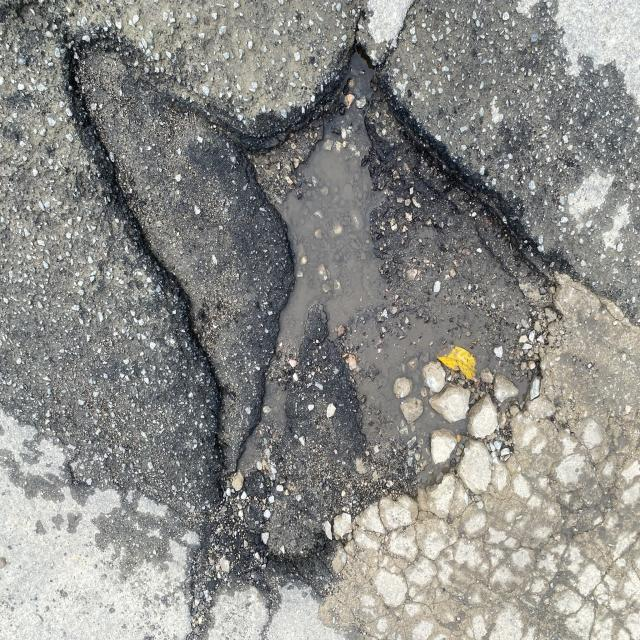Pothole: (47, 18, 640, 640)
